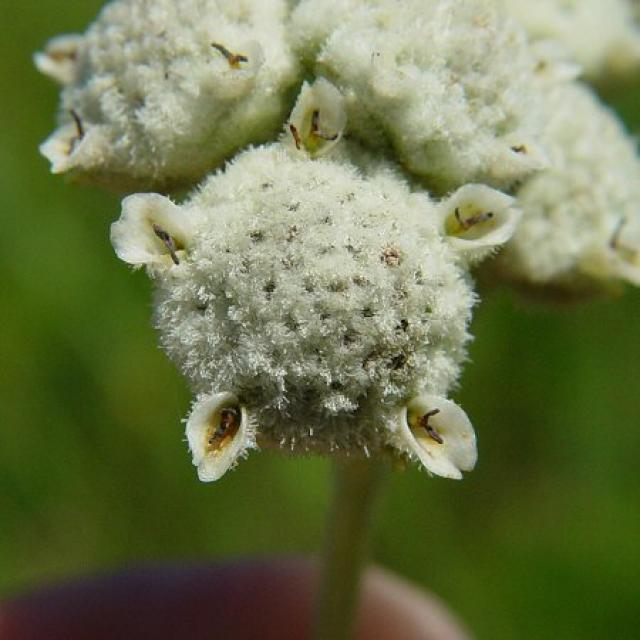Poisonous-Parthenium: (119, 152, 533, 489), (300, 0, 640, 293), (22, 0, 304, 206)
